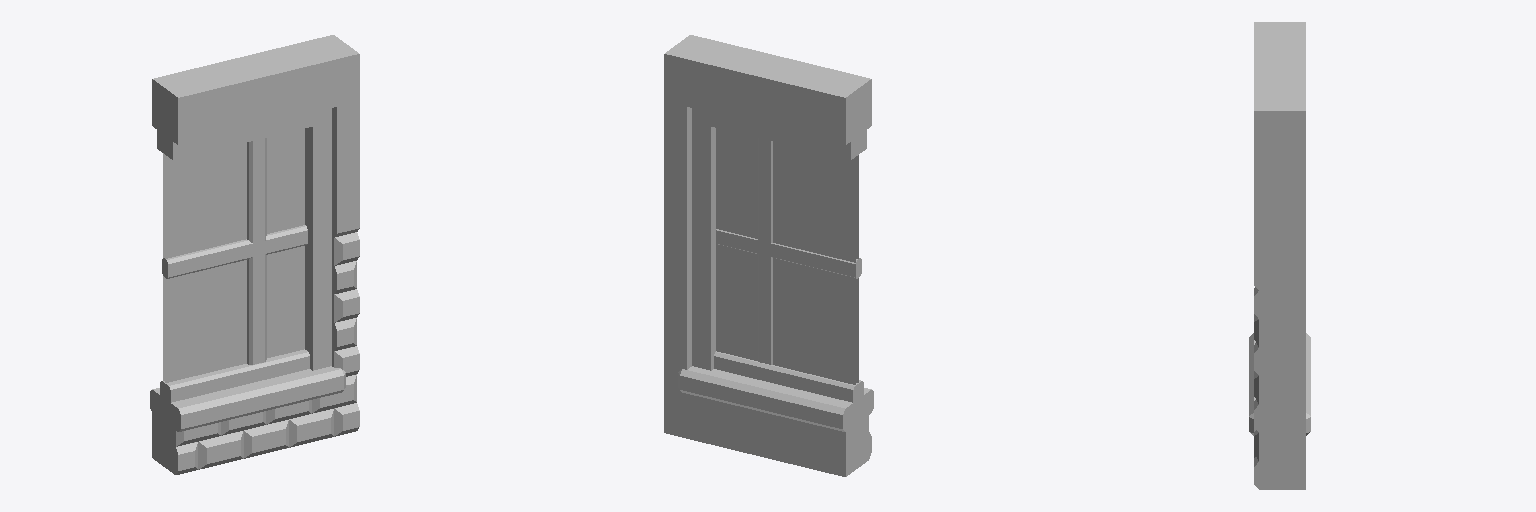
File: wall_tiles_kitchen_window_full_right.obj
3 views of the same model, side by side, from view 1: azimuth 30°, elevation 25°; view 2: azimuth 150°, elevation 25°; view 3: azimuth 270°, elevation 25° (orthographic).
Parts seen in each view (by area): view 1: wall_tiles_kitchen_window_full_right; view 2: wall_tiles_kitchen_window_full_right; view 3: wall_tiles_kitchen_window_full_right.
Boxes of the visible parts, x1=… form: wall_tiles_kitchen_window_full_right: x1=150, y1=35, x2=359, y2=474; wall_tiles_kitchen_window_full_right: x1=664, y1=35, x2=873, y2=476; wall_tiles_kitchen_window_full_right: x1=1249, y1=22, x2=1310, y2=489.
Size of the model in its own units: 2 by 4 by 0.6.